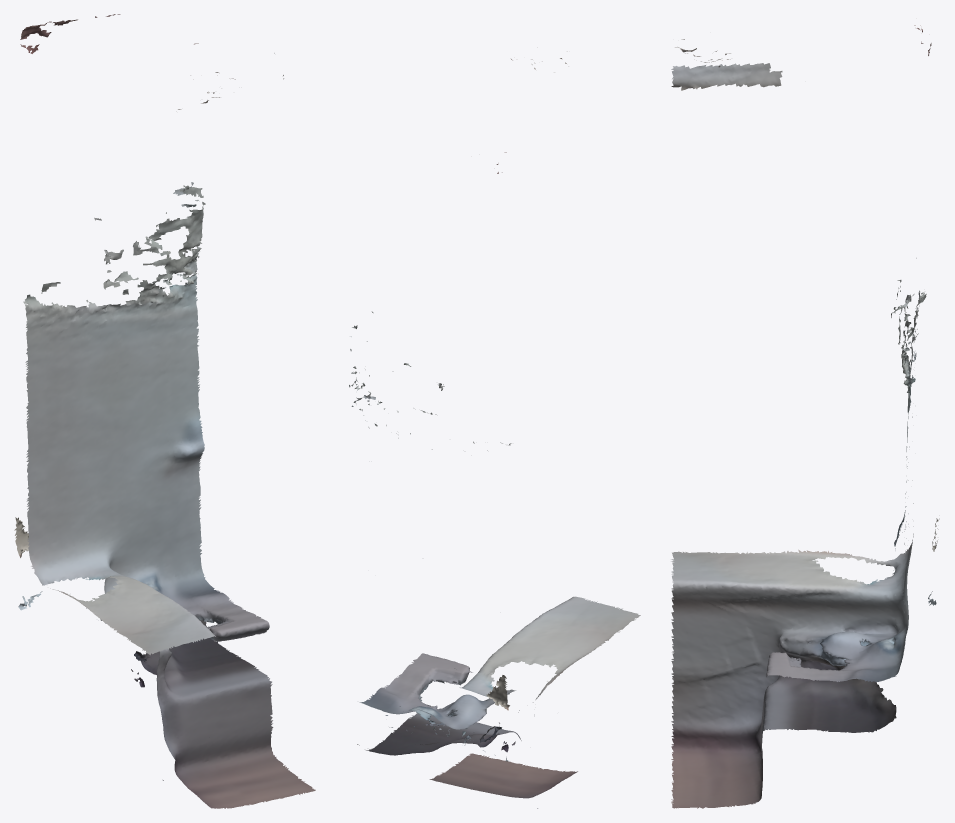
File: apartment-full-9-c527f4fd3dde.glb
3 renders of one model, left to right at view 1: azimuth 30°, elevation 25°; view 2: azimuth 150°, elevation 25°; view 3: azimuth 270°, elevation 25°, orthographic. The views are drawn at different scales.
Bounding box in the file's own units: 0.603 × 2.51 × 0.837.
